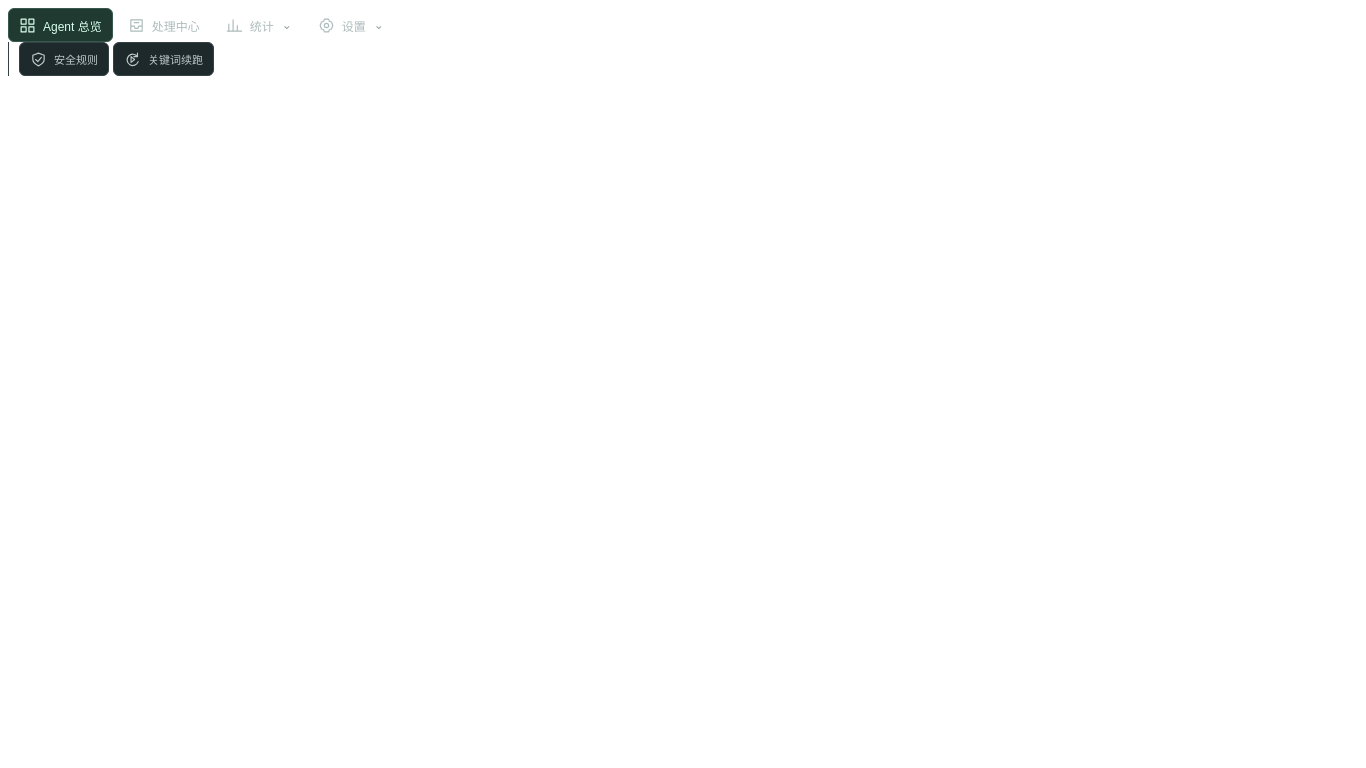
top navigation › keeps settings usable when storage is unavailable and allows every shortcut to be hidden
This screenshot has width=1366, height=768.
Click the button "设置 ⌄": (351, 25) [307, 8, 395, 42]
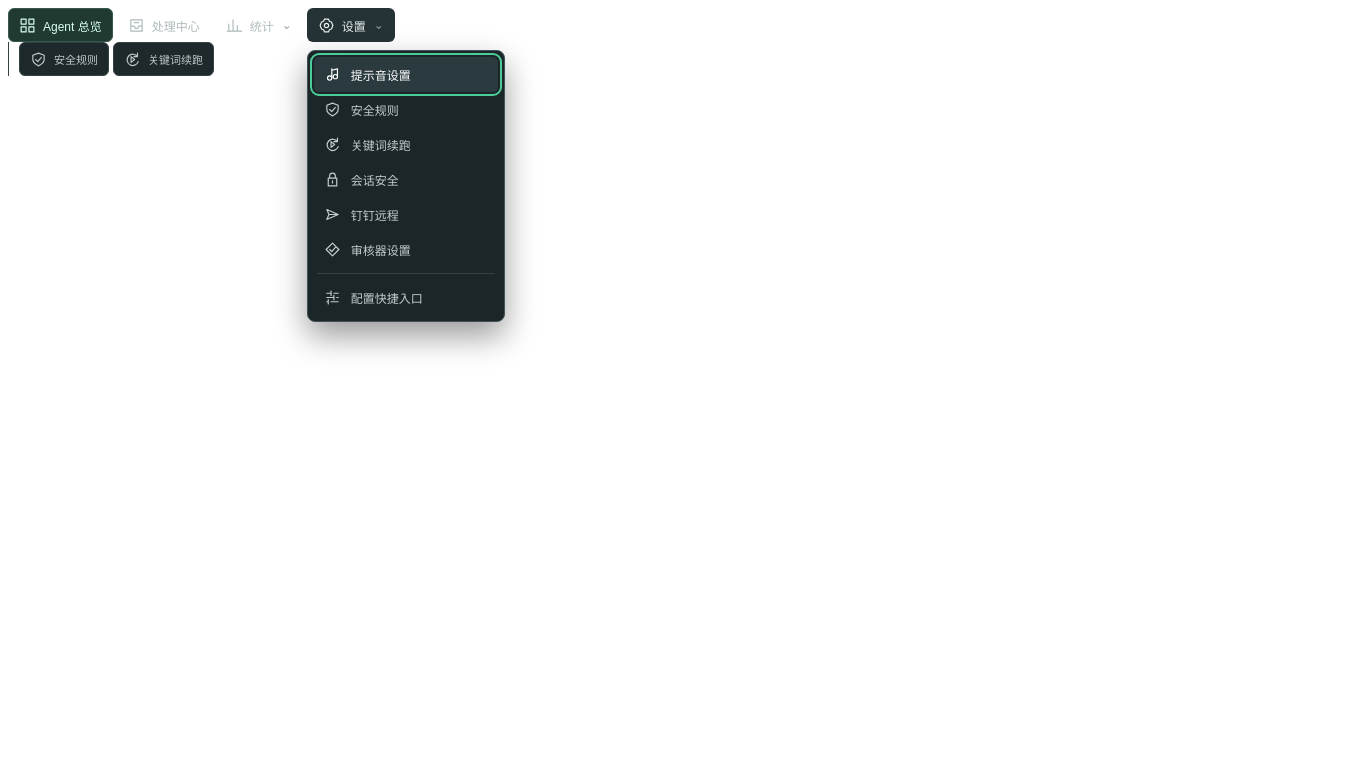
Click the menu item "配置快捷入口": (406, 298) [314, 280, 498, 315]
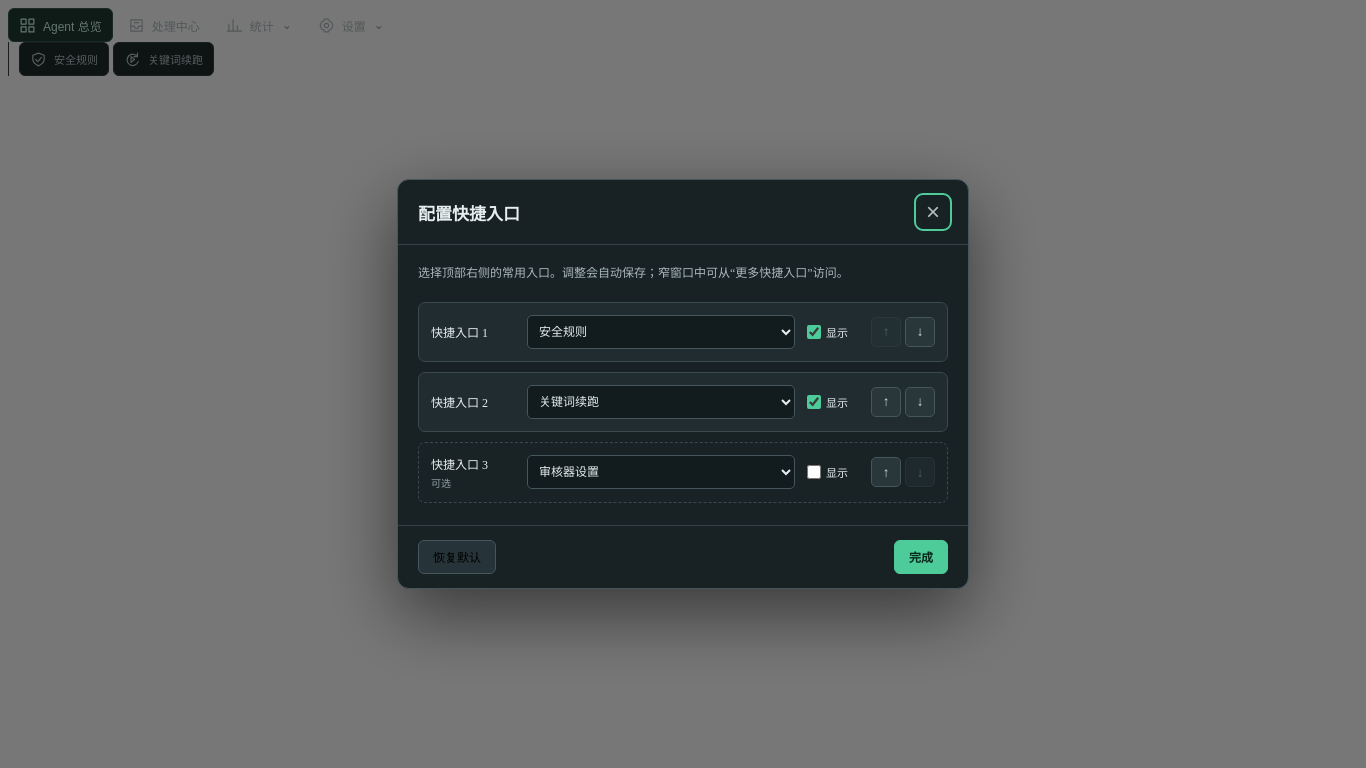
Click the checkbox named "显示快捷入口 1": (814, 332) [807, 325, 821, 339]
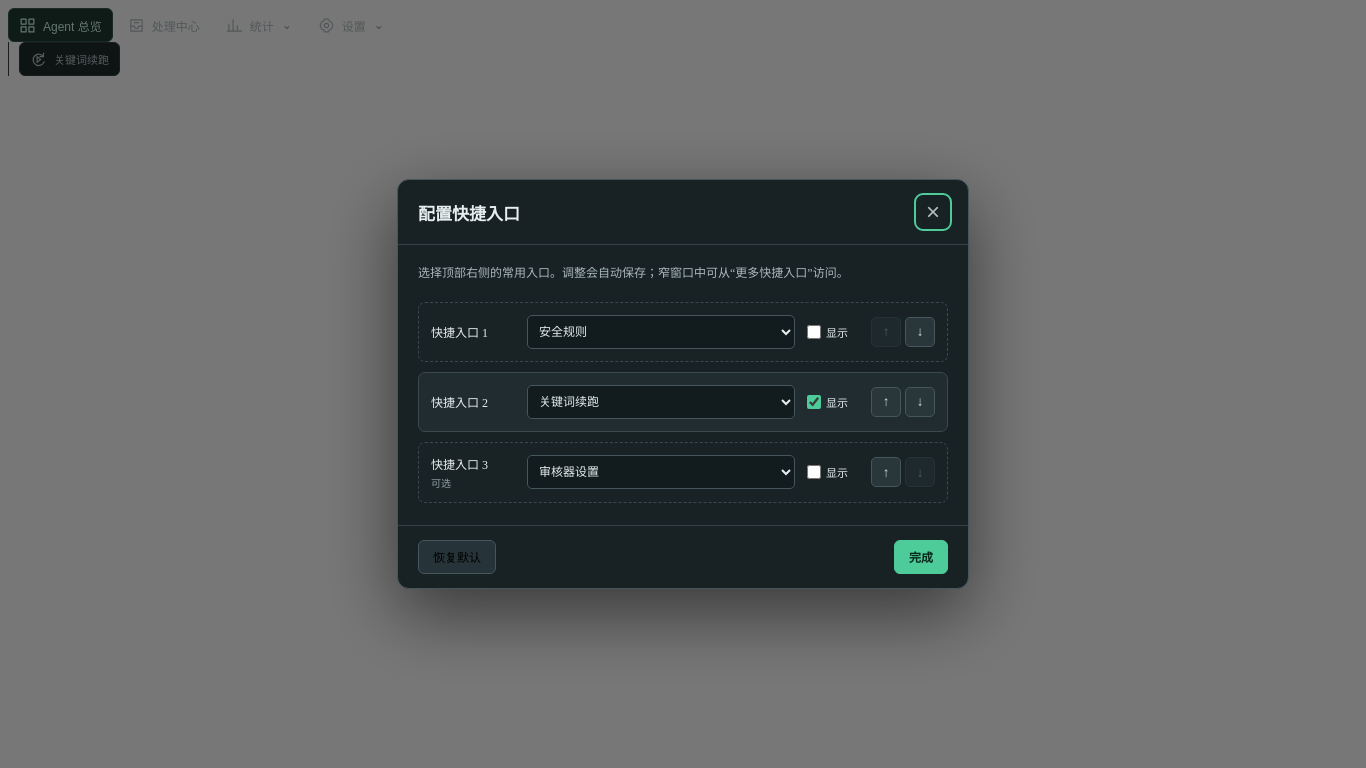
Click the checkbox named "显示快捷入口 2": (814, 402) [807, 395, 821, 409]
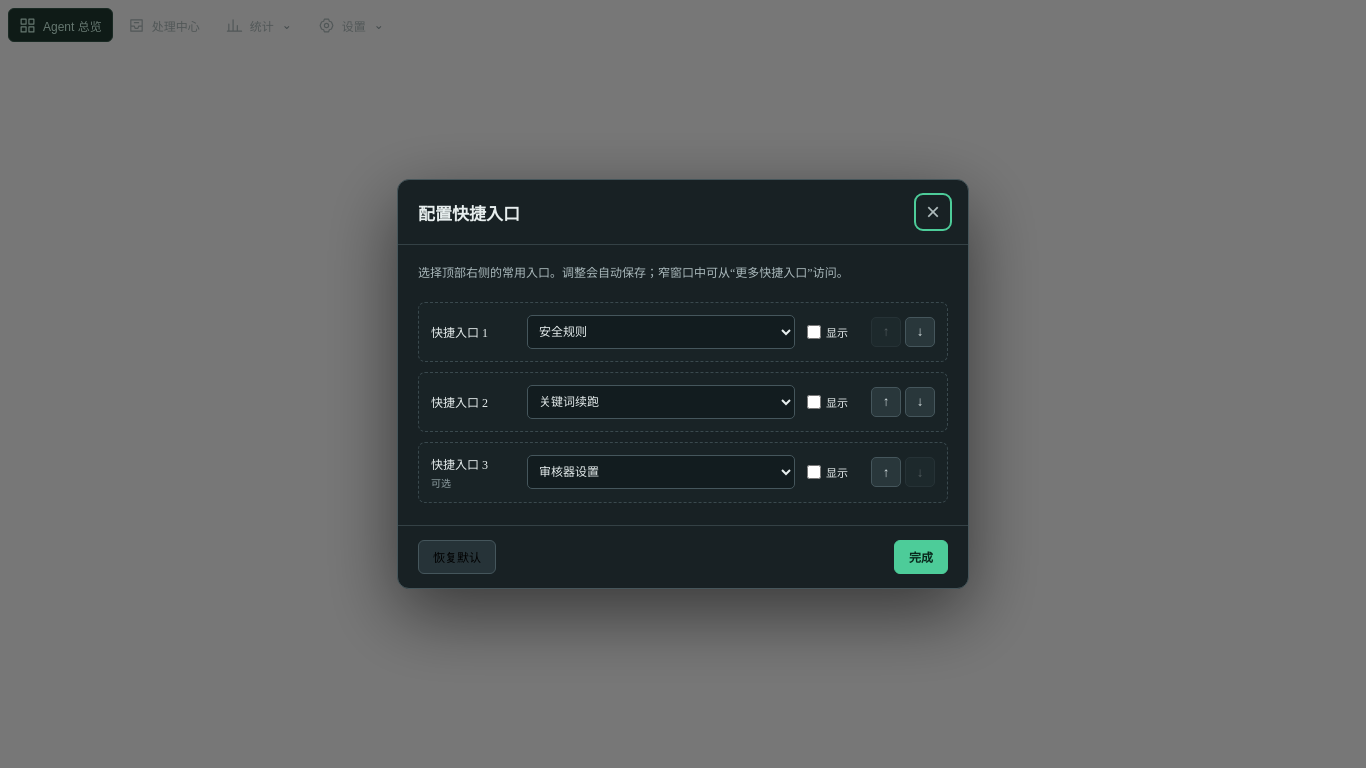
Click the button "完成": (921, 557) [894, 540, 948, 574]
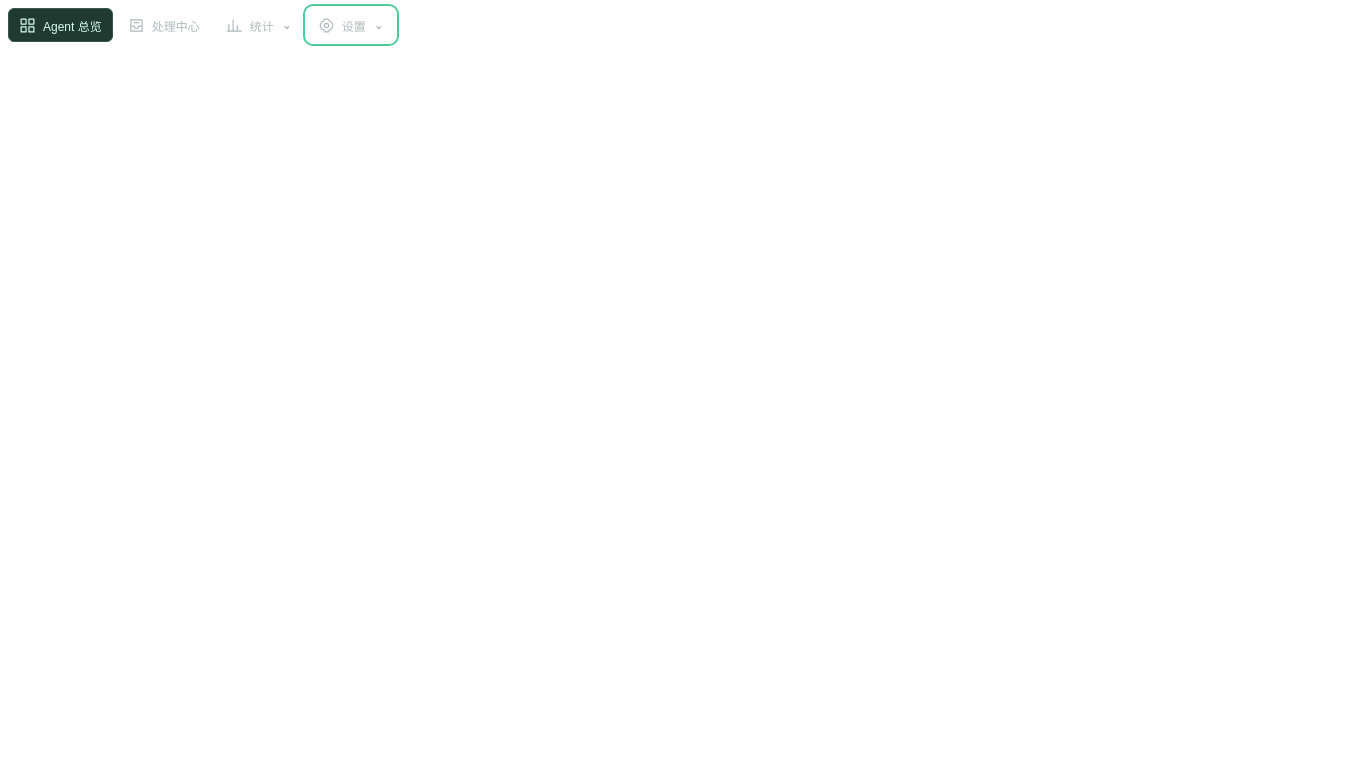
Expected: the button "设置 ⌄" is shown, [307, 8, 395, 42]
Now the heading "快捷入口" is gone
Now the text "更多快捷入口" is gone
